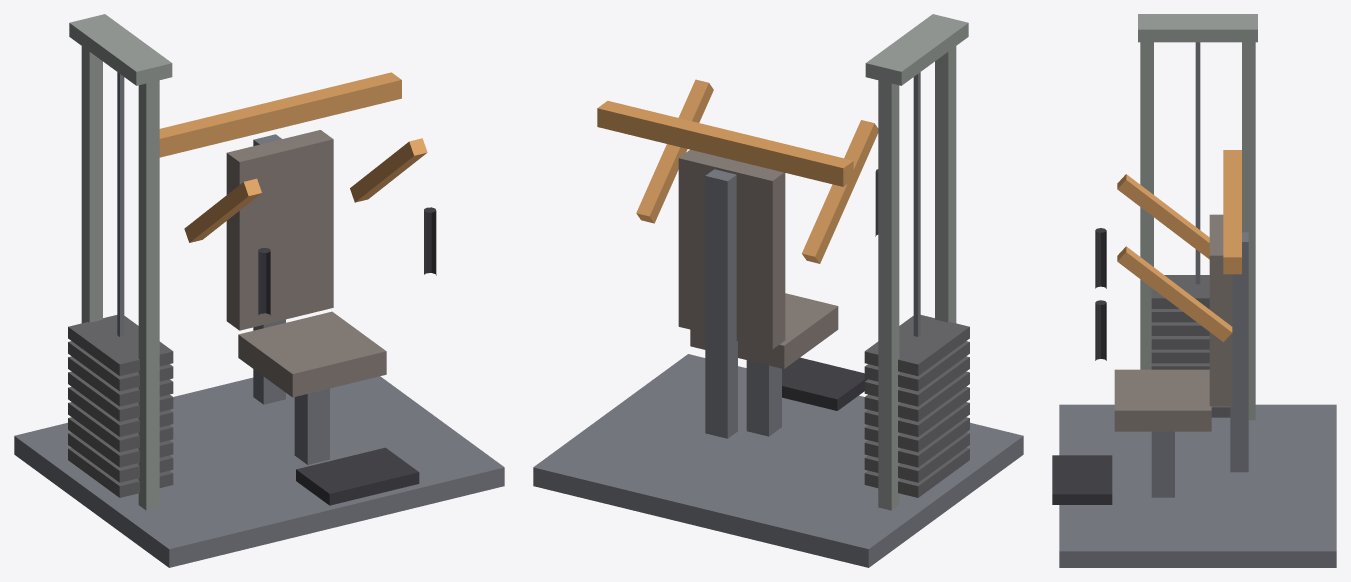
File: machine_chest_press.glb
The picture shows the model from 3 angles, left to right: view 1: azimuth 30°, elevation 25°; view 2: azimuth 150°, elevation 25°; view 3: azimuth 270°, elevation 25°; orthographic projection. The views are drawn at different scales.
Visible parts, largest first — view 1: machine; view 2: machine; view 3: machine.
Boxes of the visible parts, <box> form: machine: <box>14,14,504,567</box>; machine: <box>533,14,1023,567</box>; machine: <box>1052,14,1336,567</box>.
Size of the model in its own units: 1.5 by 1.97 by 1.23.
